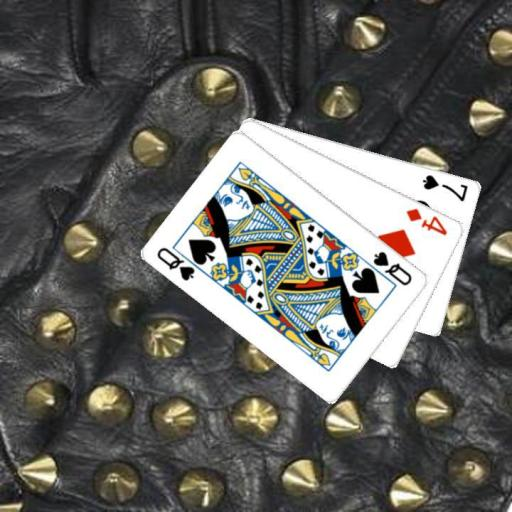4D: (404, 204, 450, 237)
7S: (420, 171, 470, 203)
QS: (370, 248, 414, 287), (154, 244, 197, 283)
